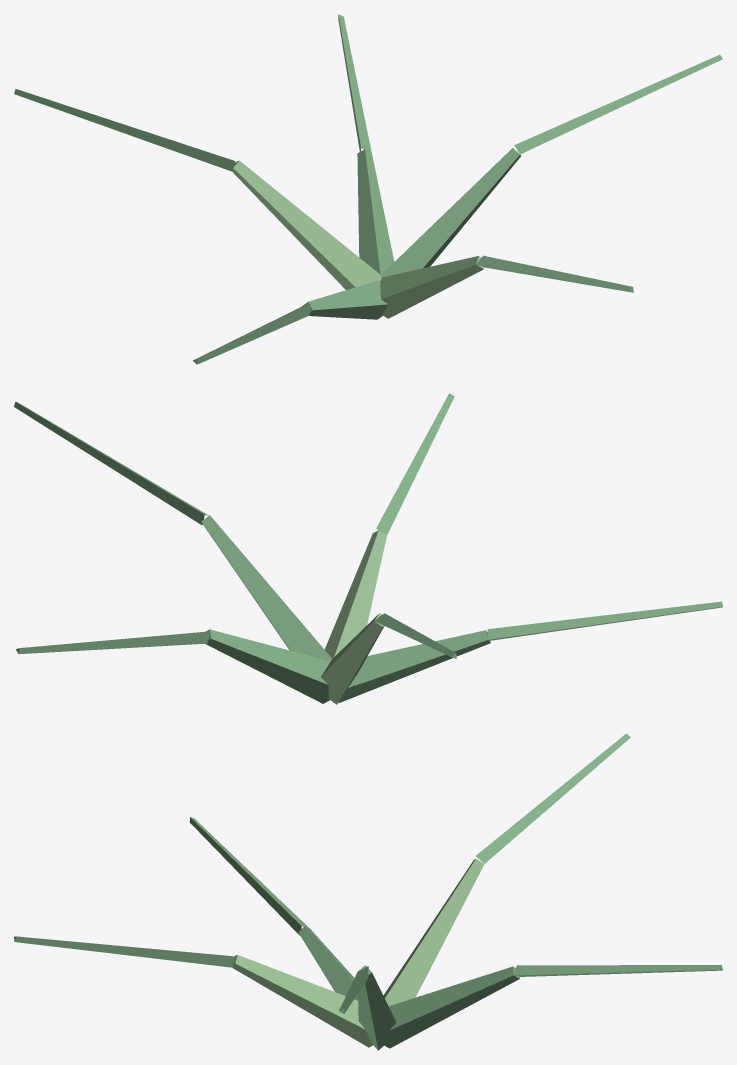
The model's file is fern_v16.glb.
The picture shows the model from 3 angles, top to bottom: view 1: azimuth 30°, elevation 25°; view 2: azimuth 150°, elevation 25°; view 3: azimuth 270°, elevation 25°; orthographic projection. The views are drawn at different scales.
Parts seen in each view (by area): view 1: lod0; view 2: lod0; view 3: lod0.
Part boxes in pixels (box(x1,y1,x2,y2)): lod0: box(14, 14, 722, 364); lod0: box(14, 393, 722, 704); lod0: box(14, 733, 722, 1050).
Size of what is drawn, in the model's own units: 1.16 by 0.3612 by 1.18.
